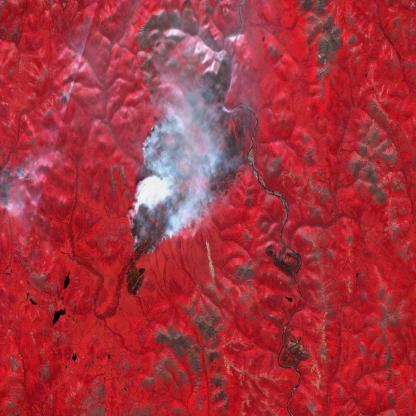fire: (123, 122, 199, 263)
